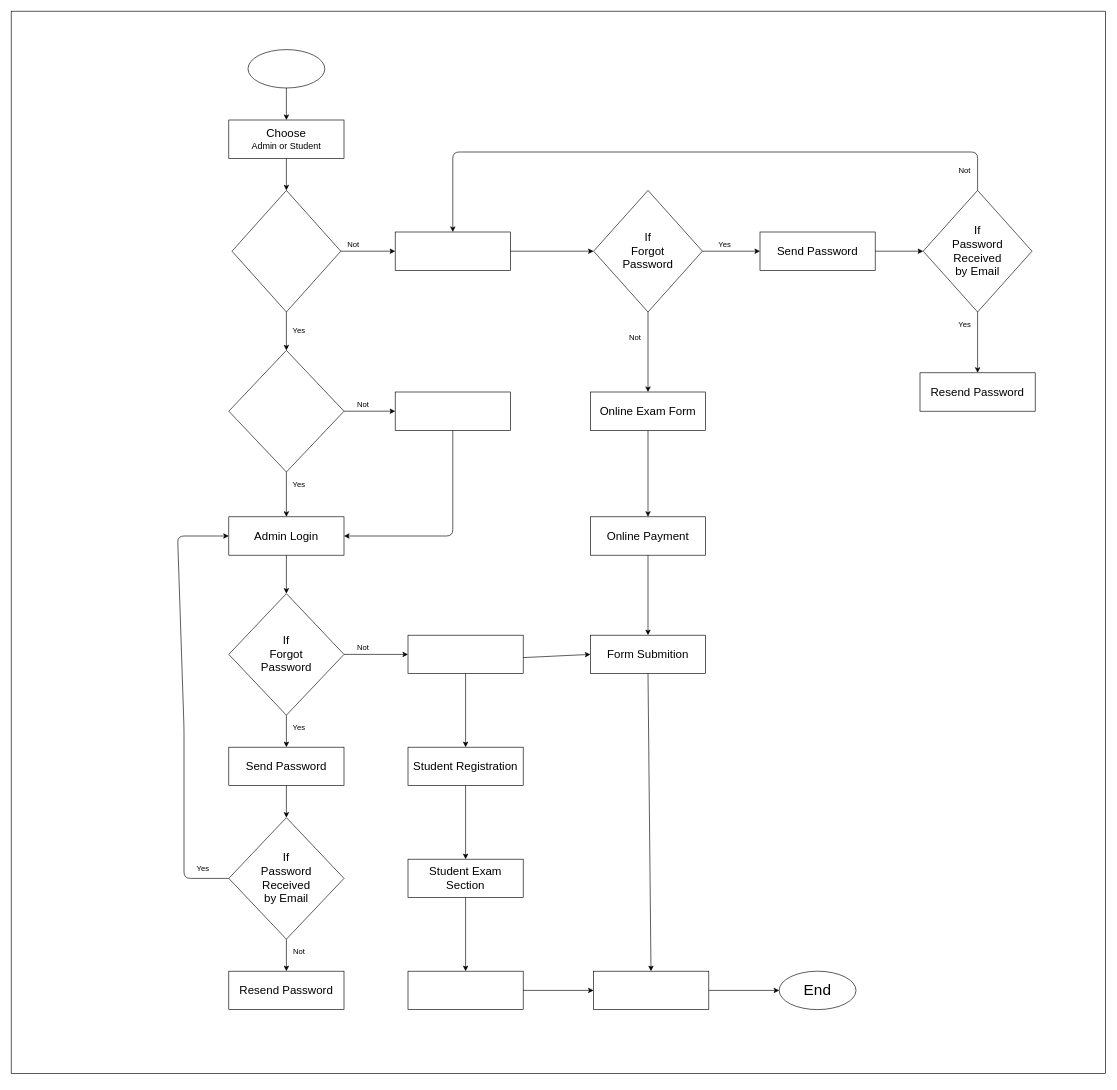
Image size: 1117x1090. Some labels were removed from this diagram. Each missing label, with the centre of its shape:
Admin Registration: point 452,410
Dashboard: point 465,654
Database: point 465,990
If Admin: point 286,251
If Admin Already Registered: point 286,411
Payment Receipt: point 651,990
Start: point 286,68
Student Login: point 452,250
